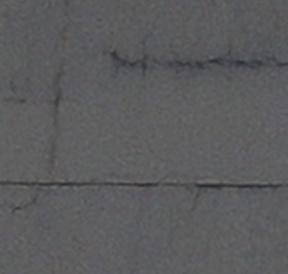fissura: (5, 34, 288, 171)
